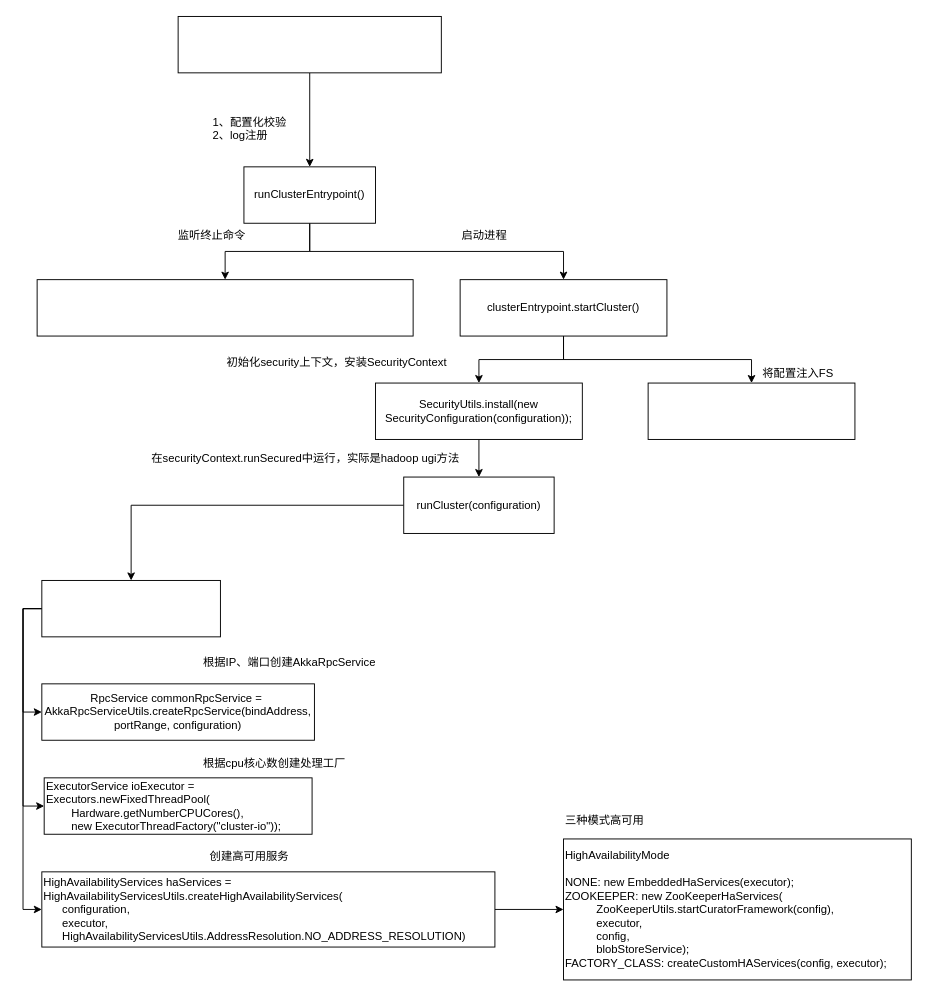
The diagram is 928 pixels wide and 996 high, and some of its shapes have lost their labels. Here are the shapes that lost their labels. From the top down, the centre of each, then its label:
(x=309, y=44): StandaloneSessionClusterEntrypoint （独立模式）
(x=224, y=307): clusterEntrypoint.getTerminationFuture().whenComplete(...)
(x=751, y=410): FileSystem.initialize(configuration)
(x=130, y=608): initializeServices(configuration)
